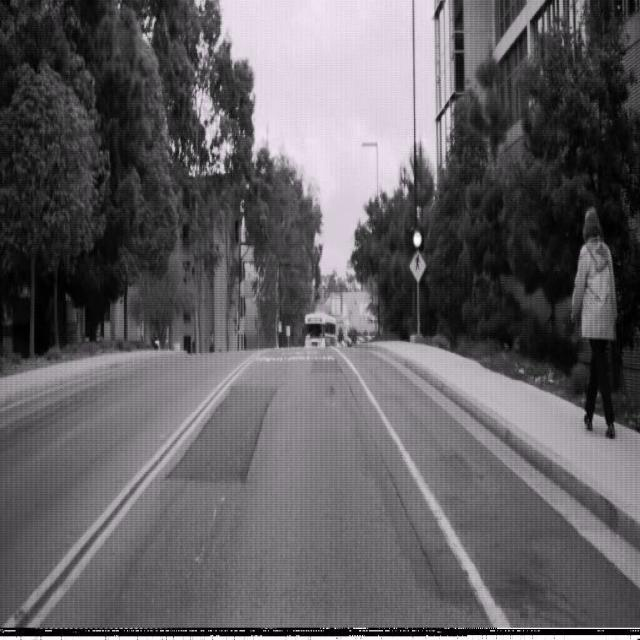pedestrianCrossing: (408, 248, 426, 284)
